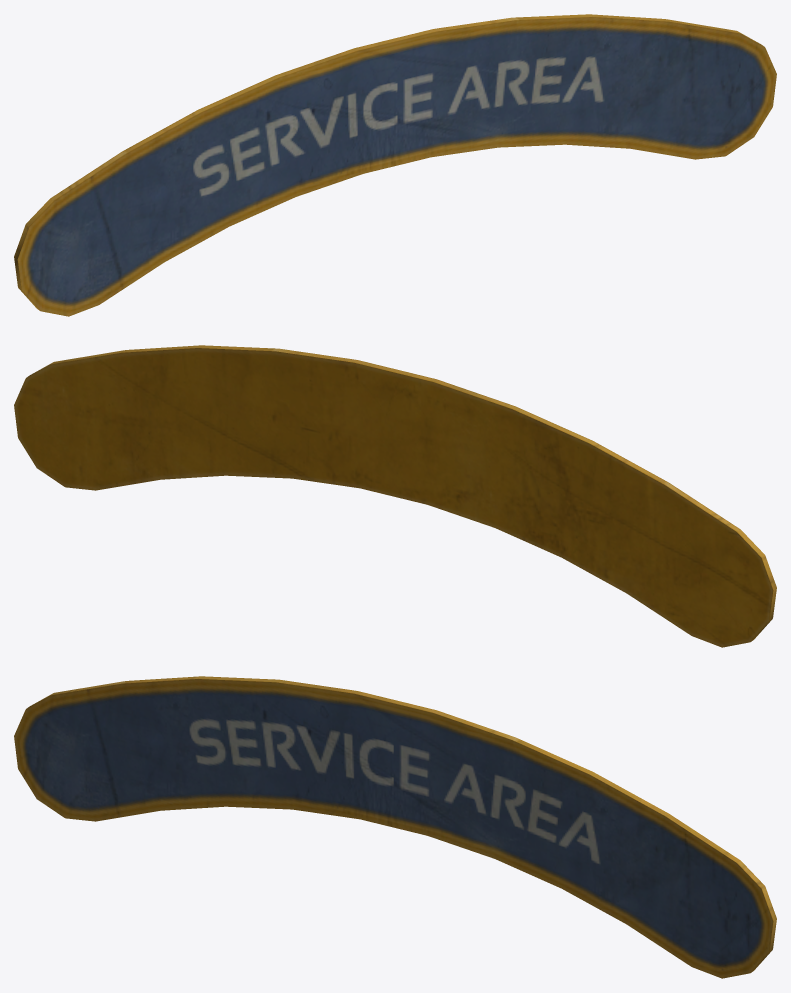
The model's file is phi_inside_sign_west_wing.dae.
3 renders of one model, top to bottom at view 1: azimuth 30°, elevation 25°; view 2: azimuth 150°, elevation 25°; view 3: azimuth 330°, elevation 25°, orthographic.
Parts seen in each view (by area): view 1: west_wing; view 2: west_wing; view 3: west_wing.
Part boxes in pixels (left/top/right/bottom): west_wing: left=14, top=14, right=776, bottom=316; west_wing: left=14, top=345, right=776, bottom=647; west_wing: left=14, top=676, right=776, bottom=978.
Size of the model in its own units: 1.17 by 0.2881 by 0.00977.
